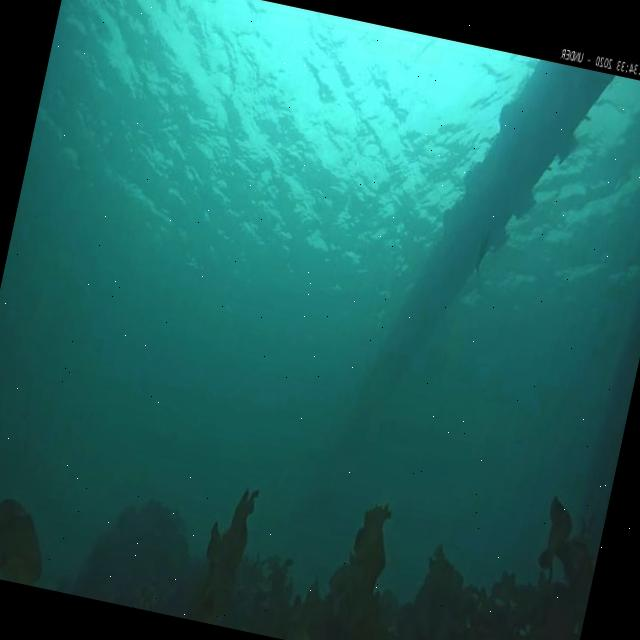fish: (472, 229, 494, 280)
